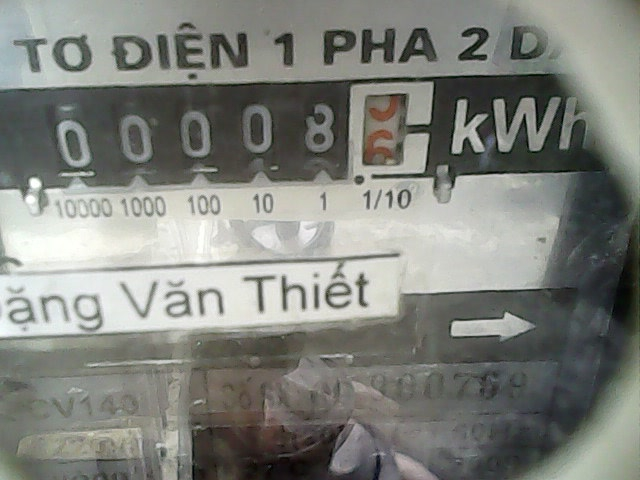phy_plate: (41, 80, 436, 188)
